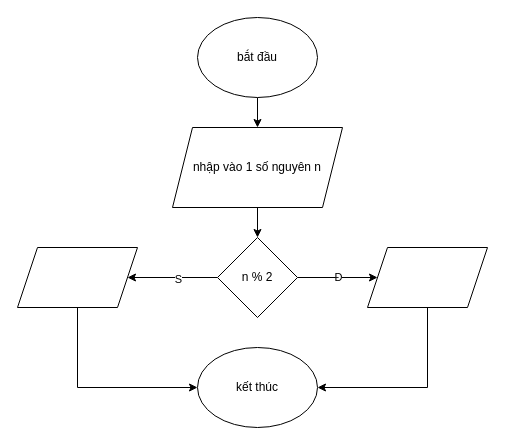
Image size: 505x445. Some labels were removed from this diagram. The shapes that lost their labels are listed below. From the top down, each one's centre as x and y in pixels, then its label:
At point 77,277: "n là số lẻ".
At point 427,277: "n là số chẵn".
